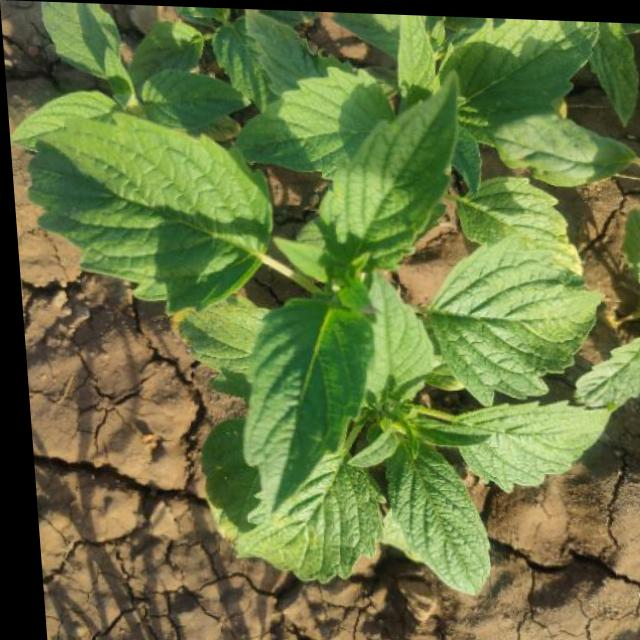crop: (46, 8, 640, 547)
